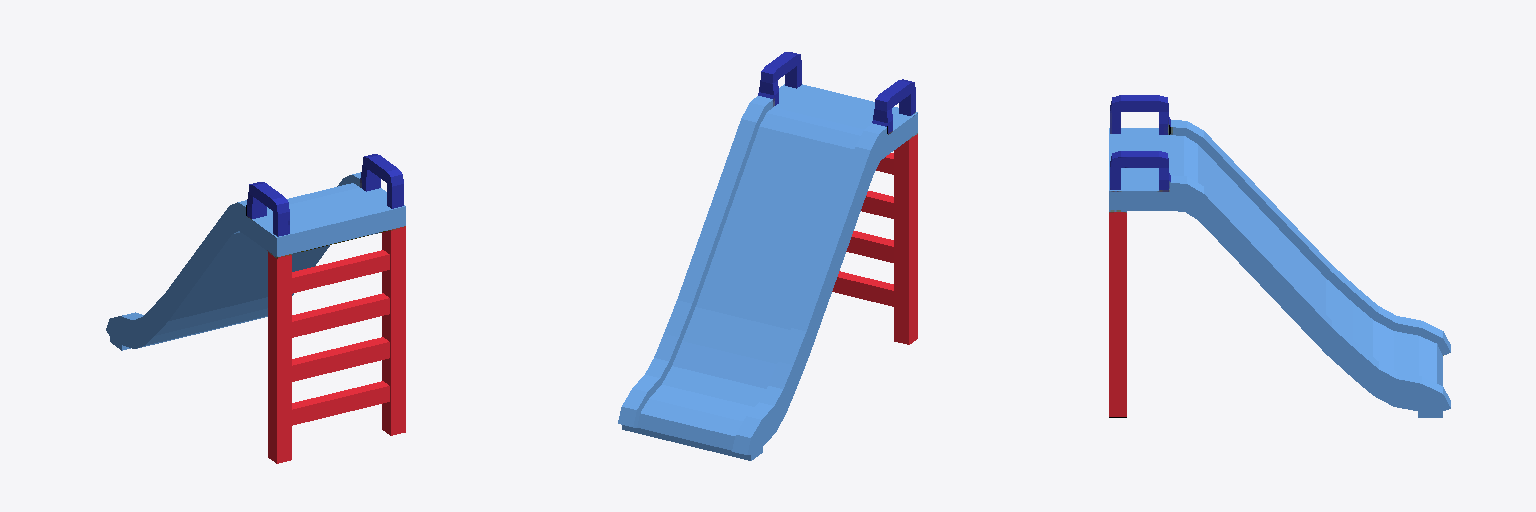
3 views of the same model, side by side, from view 1: azimuth 30°, elevation 25°; view 2: azimuth 150°, elevation 25°; view 3: azimuth 270°, elevation 25° (orthographic).
Visible parts, largest first — view 1: obj1; view 2: obj1; view 3: obj1.
Part boxes in pixels (left/top/right/bottom): obj1: left=106, top=154, right=405, bottom=463; obj1: left=618, top=52, right=917, bottom=460; obj1: left=1109, top=95, right=1450, bottom=417.
Bounding box in the file's own units: 2.74 × 5.25 × 6.26.
Materials: 1 (1 with a texture image).